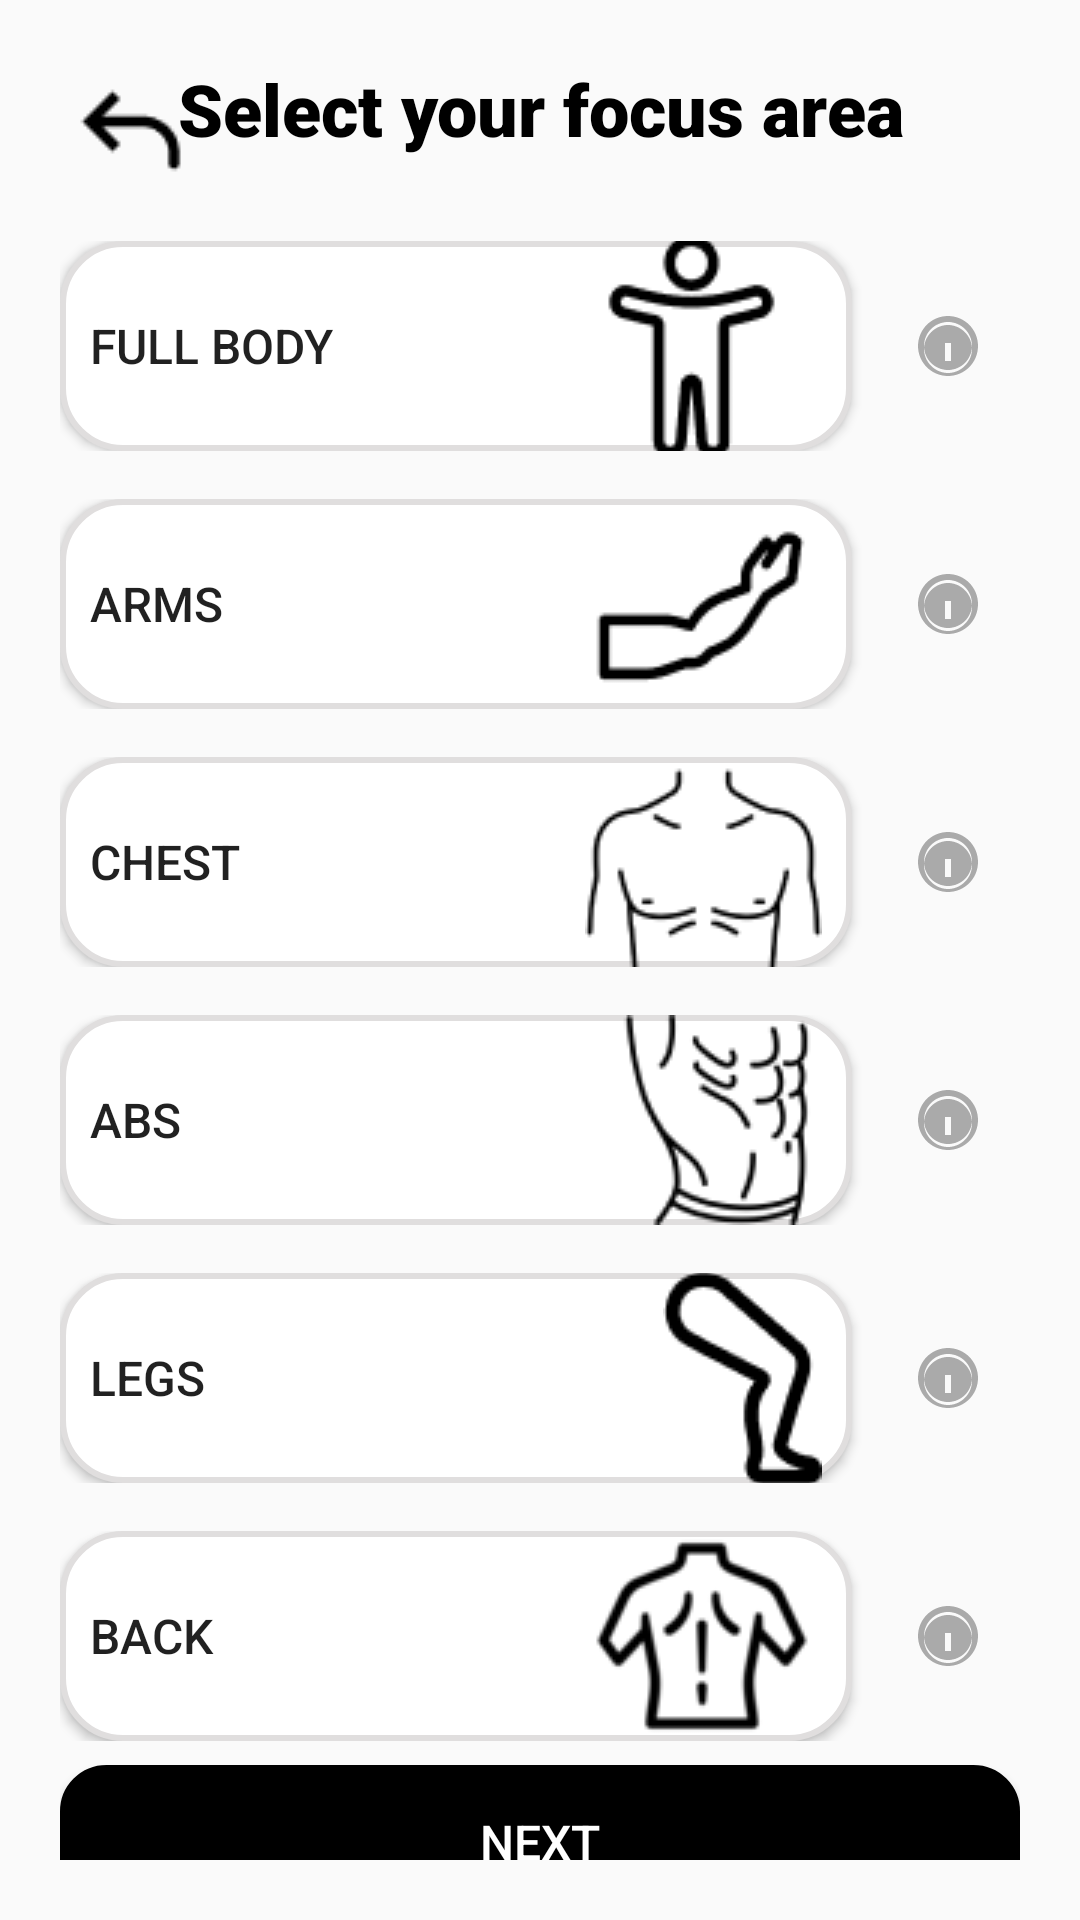

Named icons in this screenshot (1080 × 1920) and their centers, [x,y]:
Back: [131,130]
